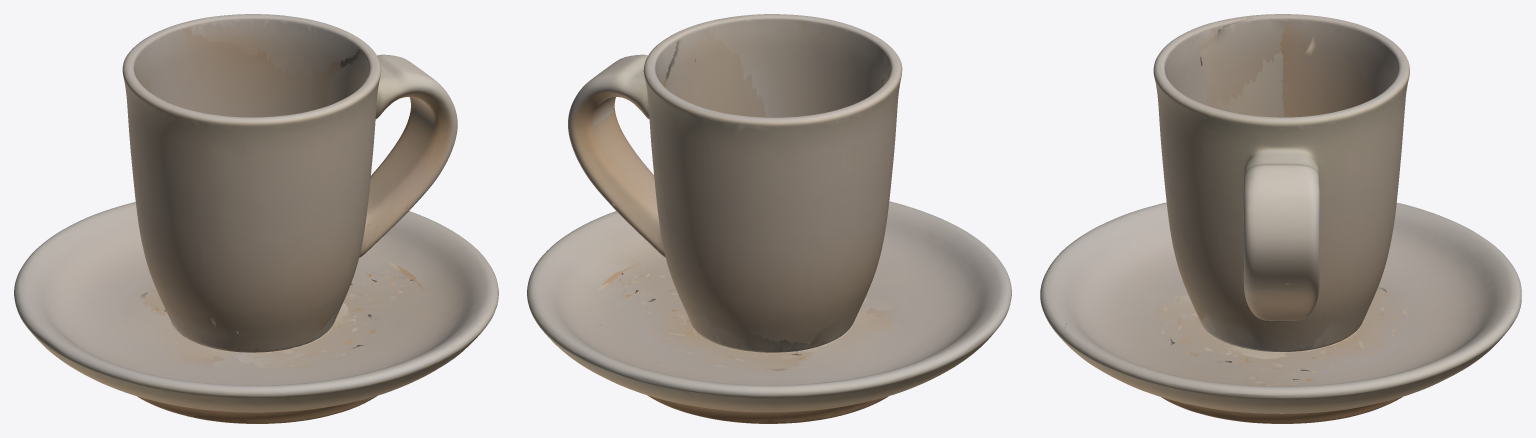
File: foodify-mug.glb
3 views of the same model, side by side, from view 1: azimuth 30°, elevation 25°; view 2: azimuth 150°, elevation 25°; view 3: azimuth 270°, elevation 25° (orthographic).
Visible parts, largest first — view 1: texture_pbr_v128; view 2: texture_pbr_v128; view 3: texture_pbr_v128.
Boxes of the visible parts, x1,y1,x2,y2 form: texture_pbr_v128: (14, 14, 498, 423); texture_pbr_v128: (527, 14, 1011, 423); texture_pbr_v128: (1040, 14, 1521, 423).
Bounding box in the file's own units: 0.1683 × 0.1143 × 0.1683.
Materials: 1 (1 with a texture image).
